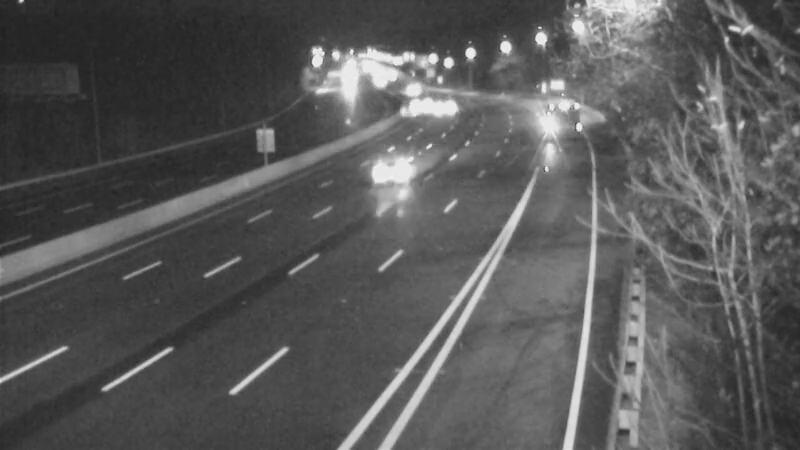vehicle: (349, 127, 429, 207), (384, 66, 434, 116), (417, 83, 467, 133), (390, 84, 440, 134), (527, 91, 577, 141)
